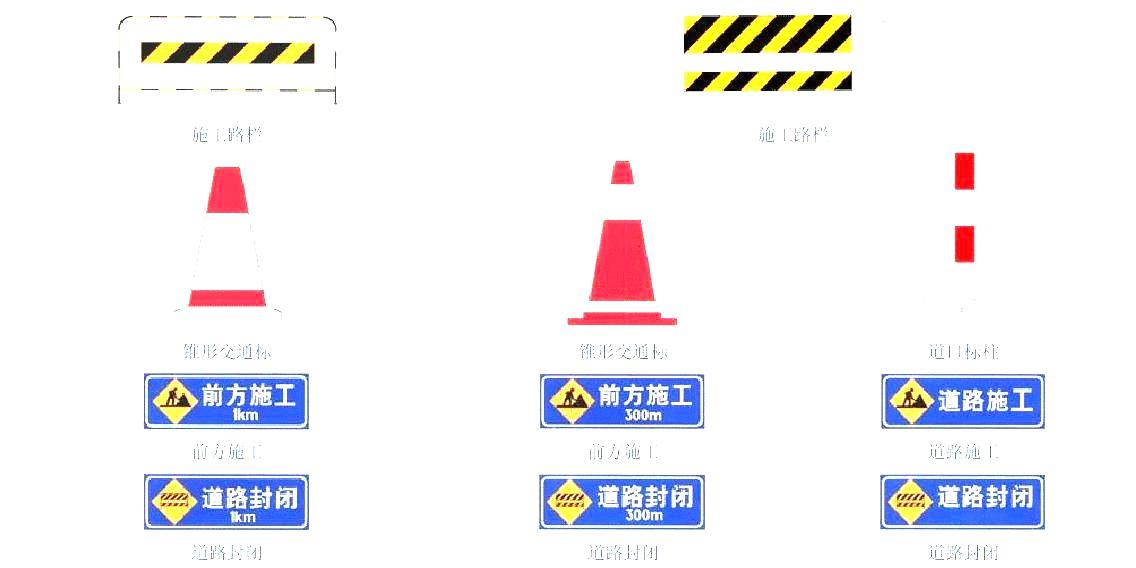sign: (884, 373, 1047, 432), (535, 473, 705, 529), (145, 473, 308, 531), (539, 372, 705, 428), (879, 477, 1042, 530), (144, 375, 306, 425)
